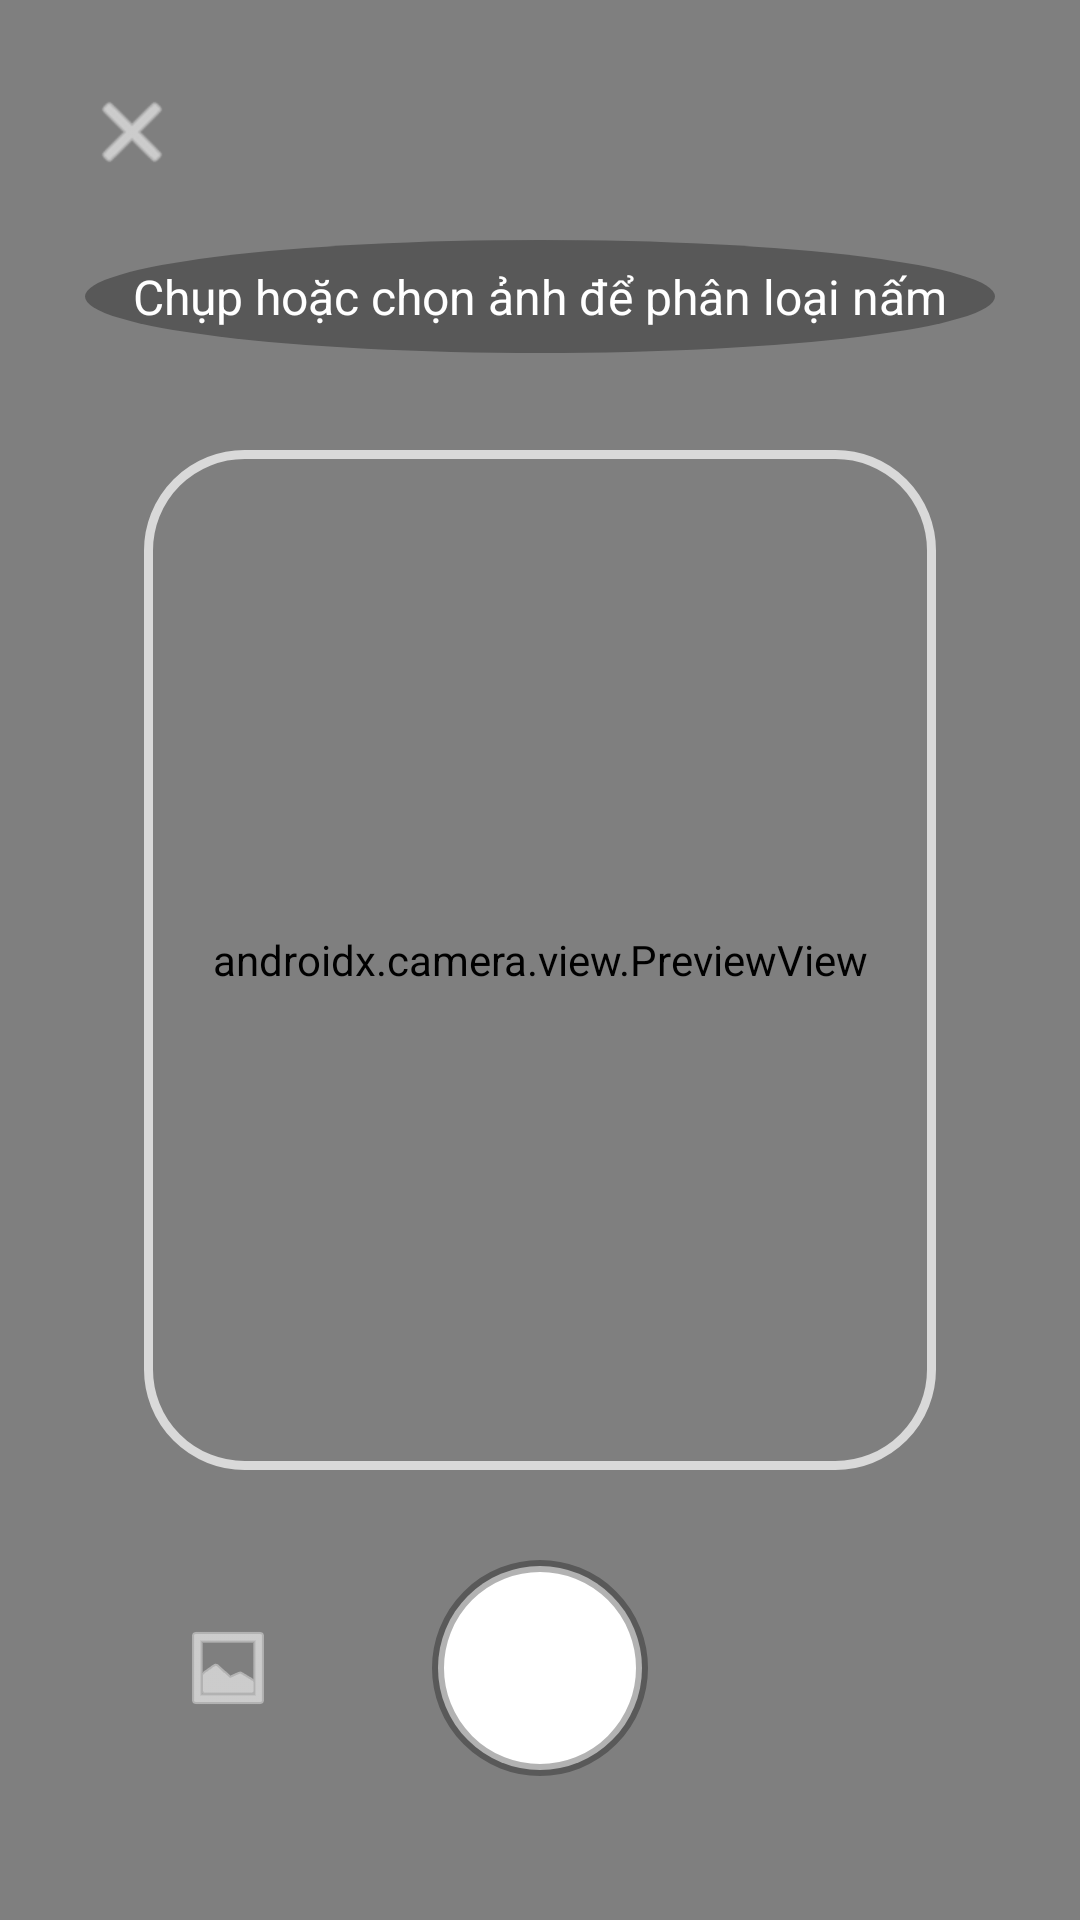

Icons on this 1080px×1920px Android screen, each with its box as [left=x1, top=y1, right=x2, bottom=y2]:
Chọn từ thư viện ảnh: [left=192, top=1632, right=264, bottom=1704]
